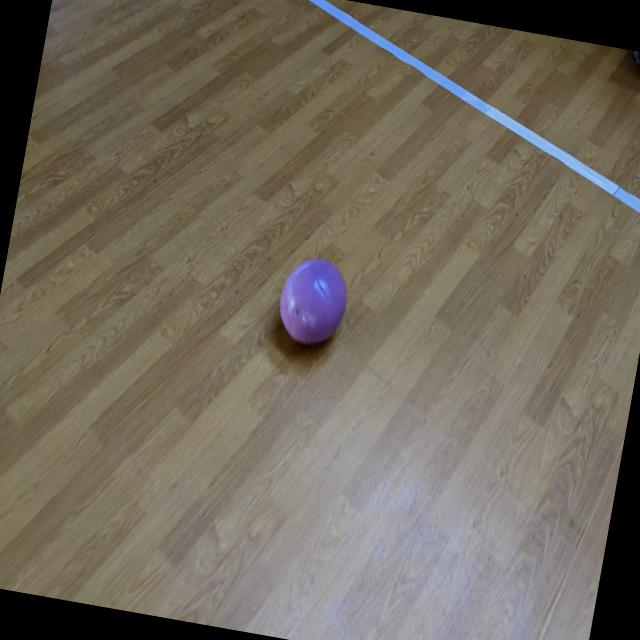purple_ball: (270, 252, 353, 348)
